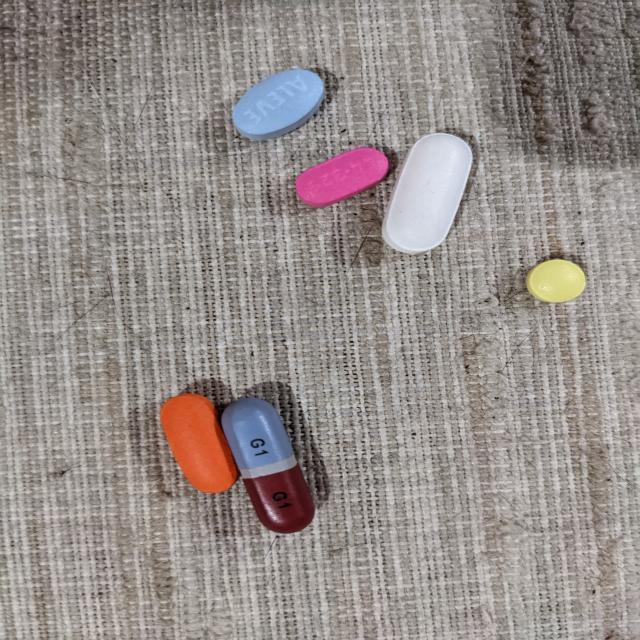non-organic waste: (220, 397, 317, 535), (380, 132, 474, 256), (159, 392, 240, 493), (230, 68, 327, 142), (293, 147, 390, 208), (525, 258, 587, 304)
